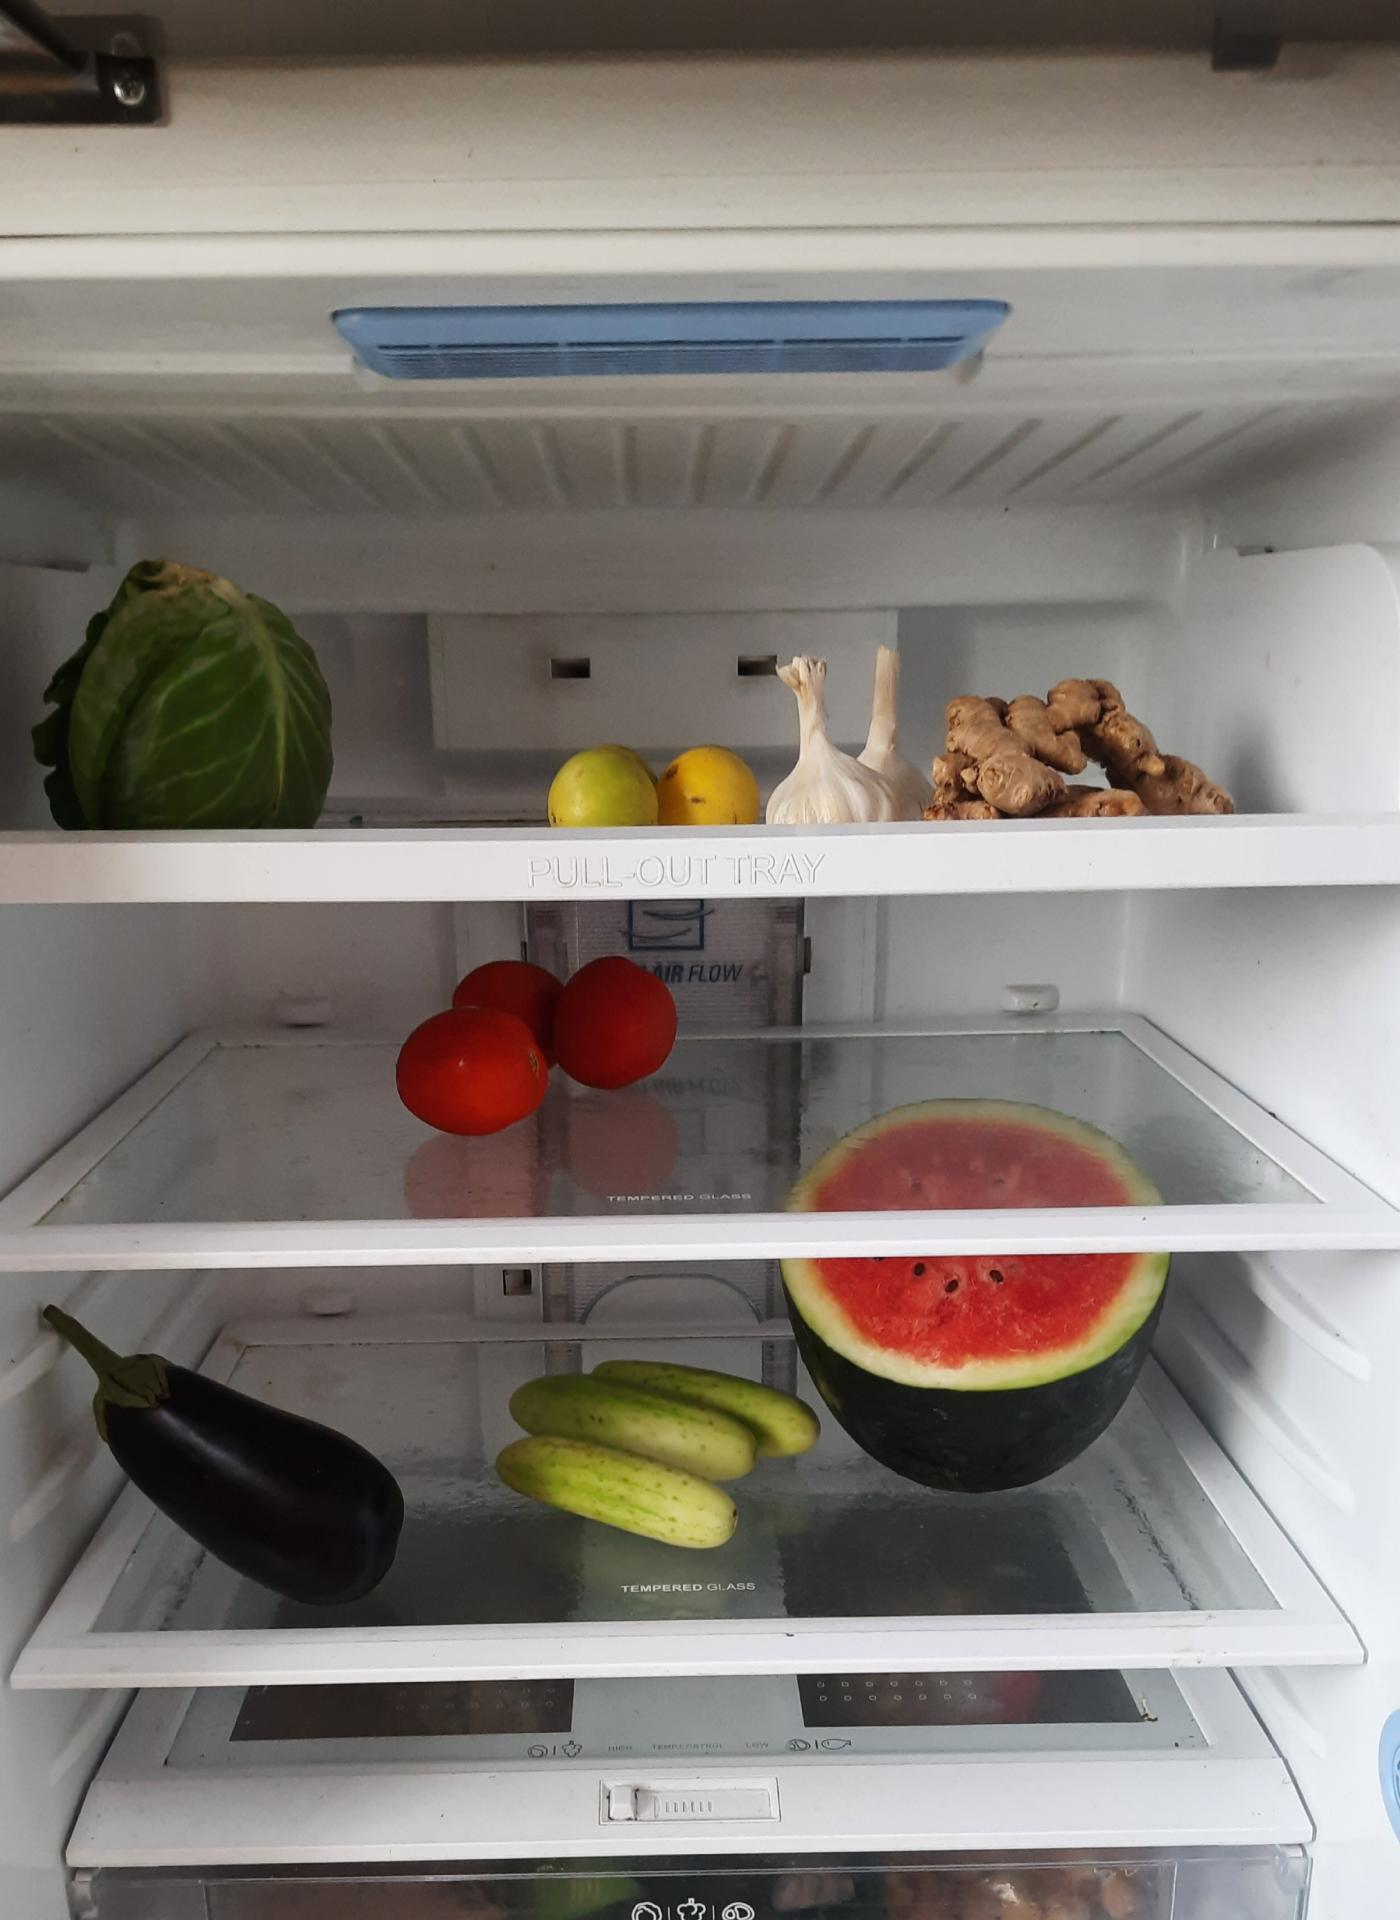brinjal: (31, 1291, 406, 1613)
cabbage: (45, 562, 349, 826)
cucumber: (499, 1352, 824, 1537)
garlic: (778, 625, 953, 850)
ginger: (945, 675, 1235, 830)
lemon: (540, 738, 778, 833)
tomato: (386, 957, 677, 1133)
watermelon: (808, 1094, 1202, 1470)
